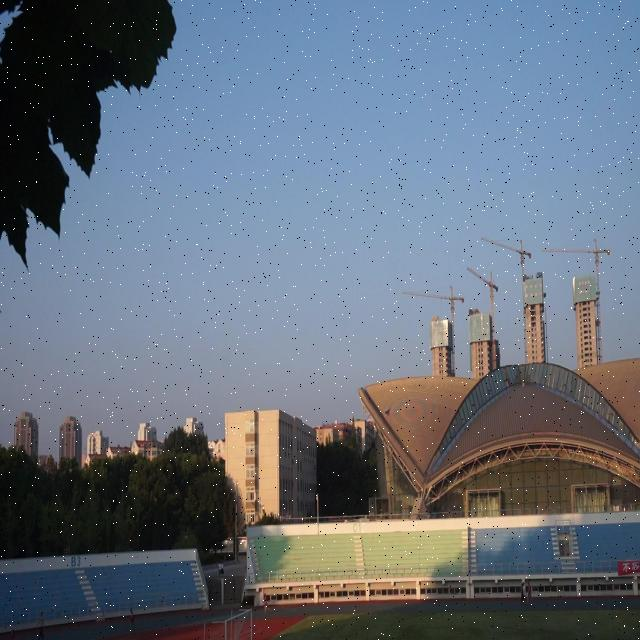UAV: (385, 406, 390, 416)
